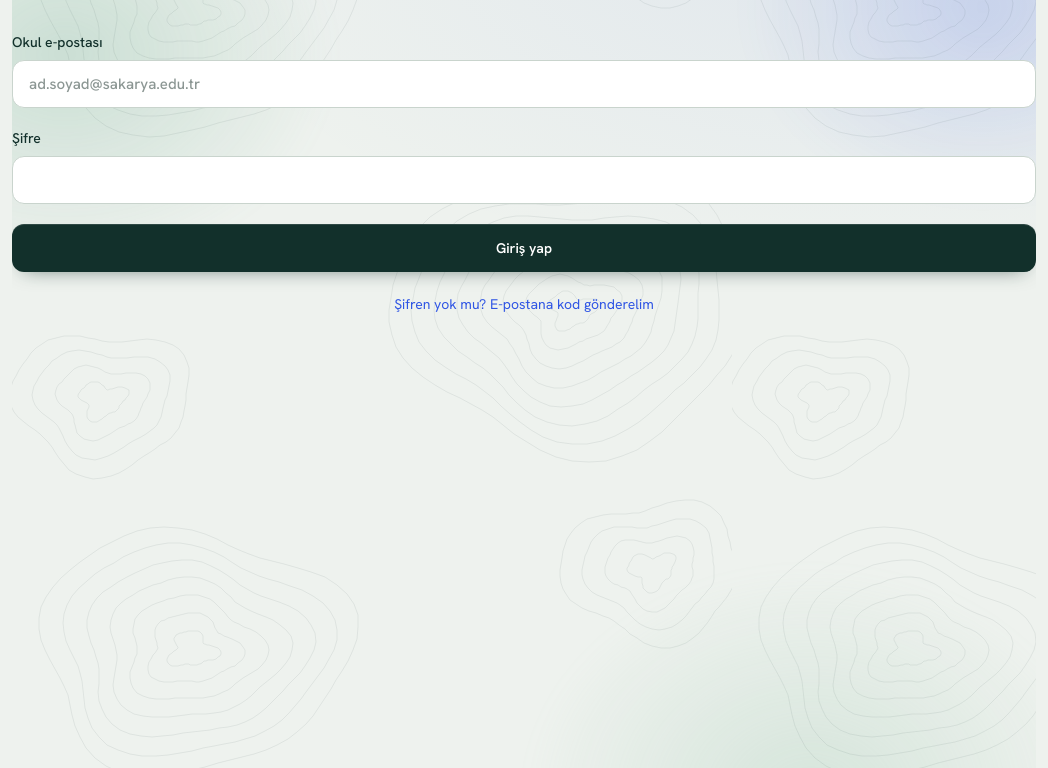
Test: LoginForm password sign in › offers the e-mail code option
Click the button "Şifren yok mu? E-postana kod gönderelim": (524, 304) [12,294,1036,314]
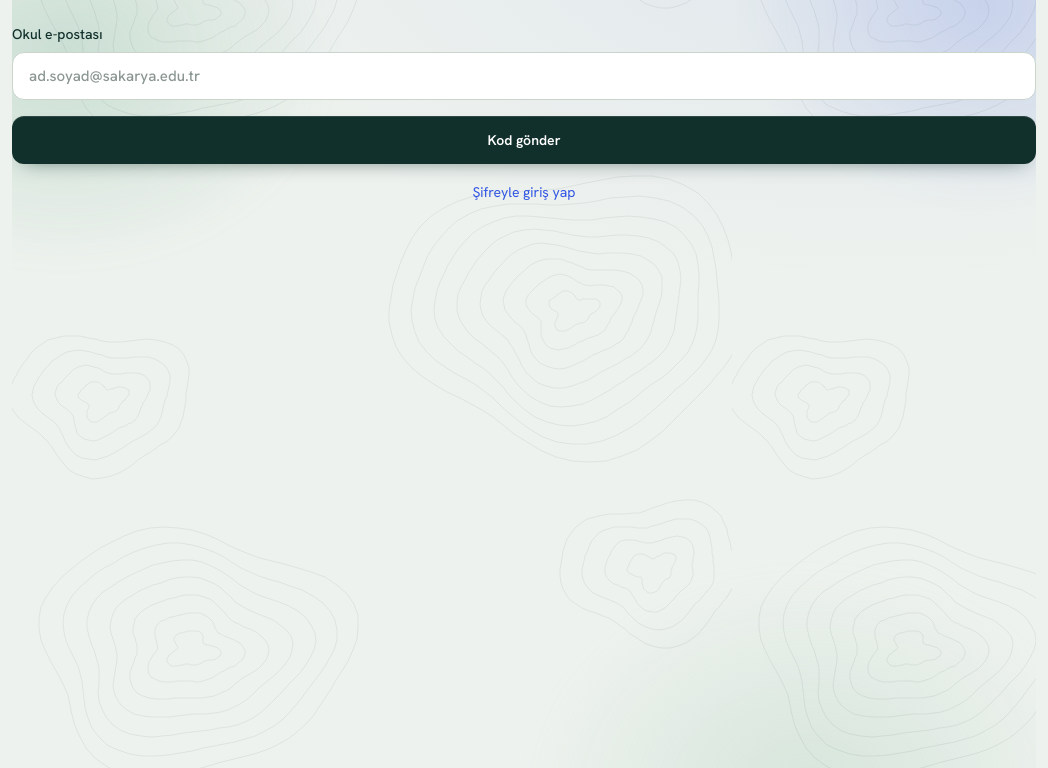
expect the button "Kod gönder" is shown: met, box [12,116,1036,164]
